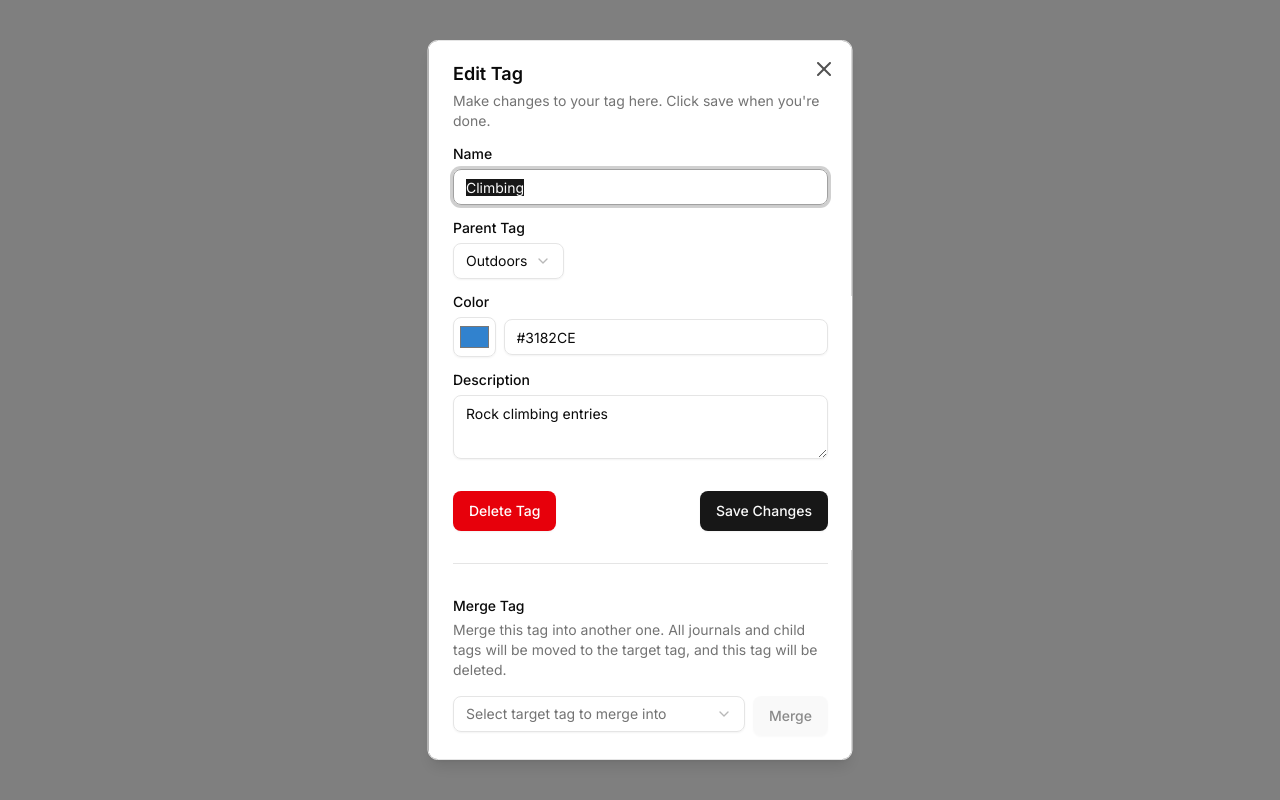
Scenario: JournalTagManagementDialog › merge › excludes the tag itself and its descendants from the merge targets
Click the dropdown labelled "merge into": (598, 714) left=452, top=696, right=744, bottom=732
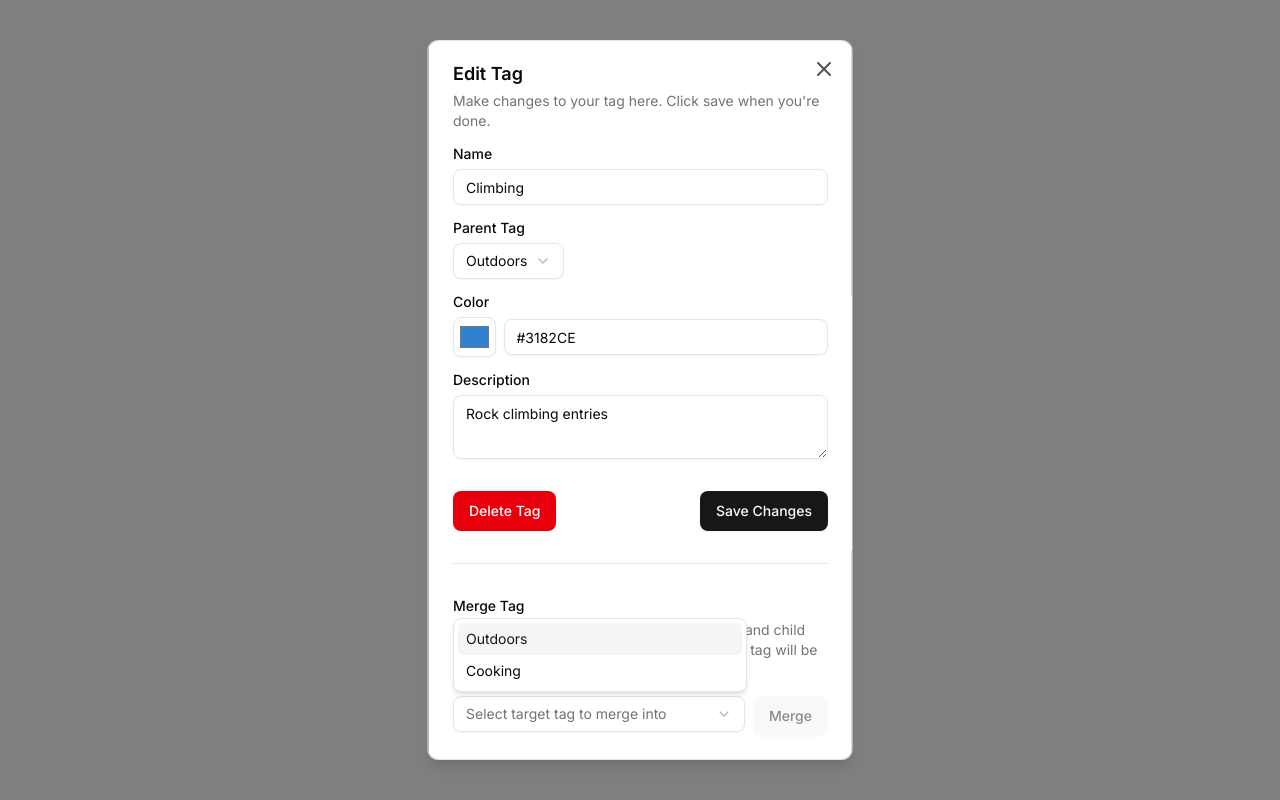
Now the option "Cooking" is shown, box left=466, top=662, right=521, bottom=679
Now the option "Outdoors" is shown, box left=458, top=623, right=742, bottom=655
